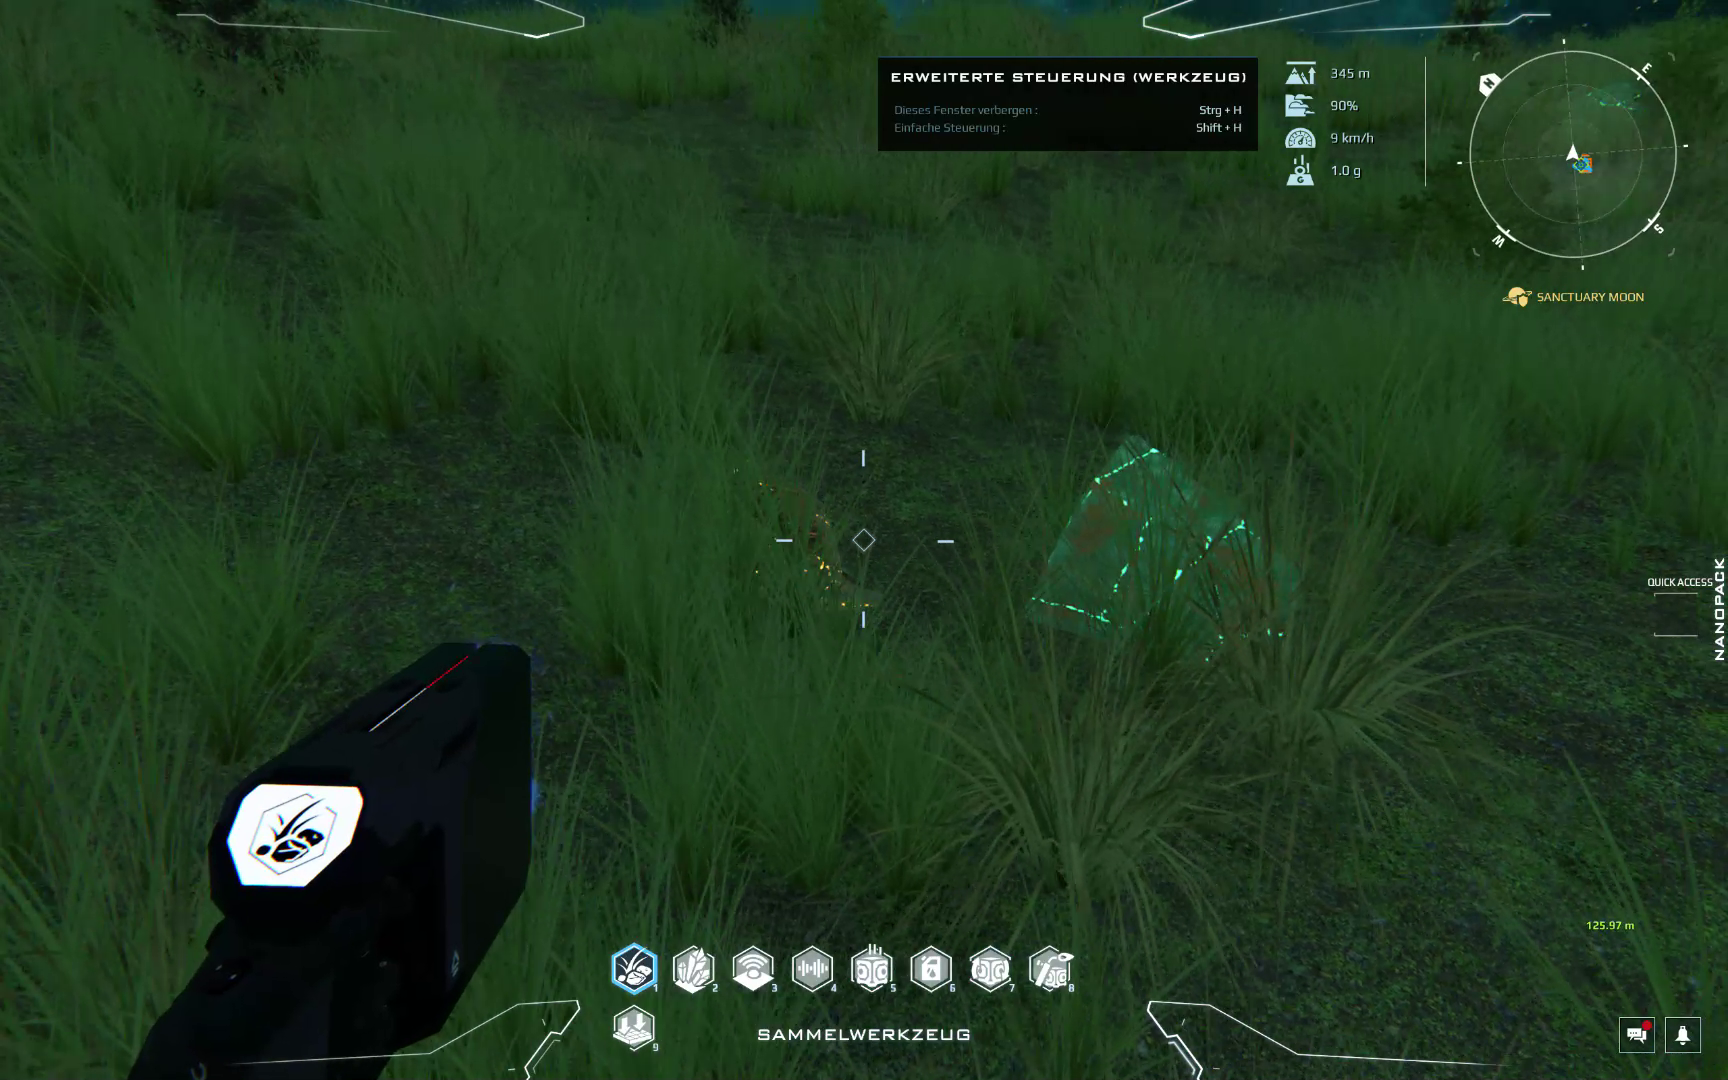Ore: (1019, 435, 1310, 687), (719, 459, 880, 618)
